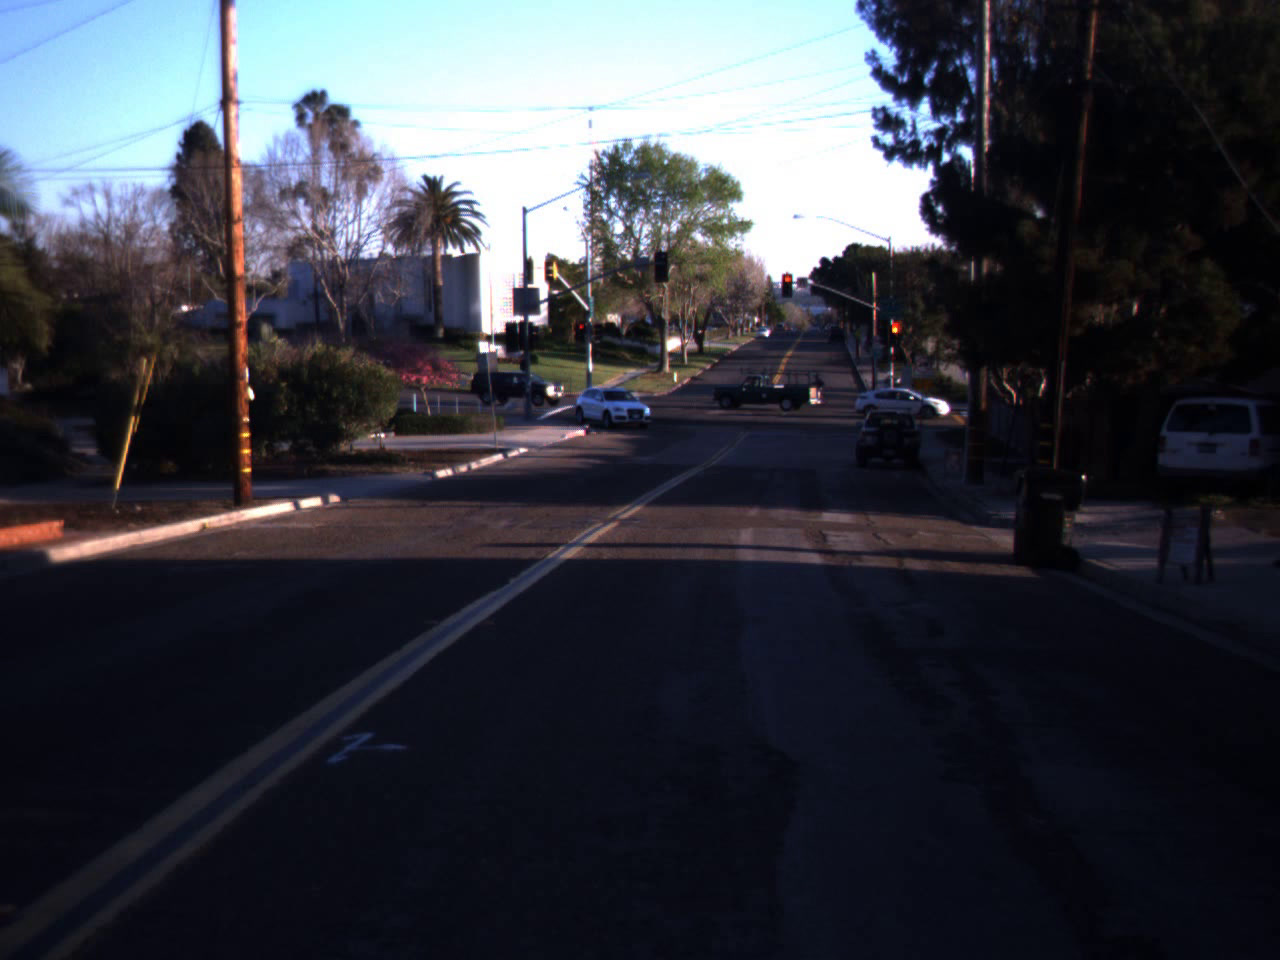stop: (780, 273, 795, 300), (574, 321, 589, 348), (886, 320, 904, 342)
